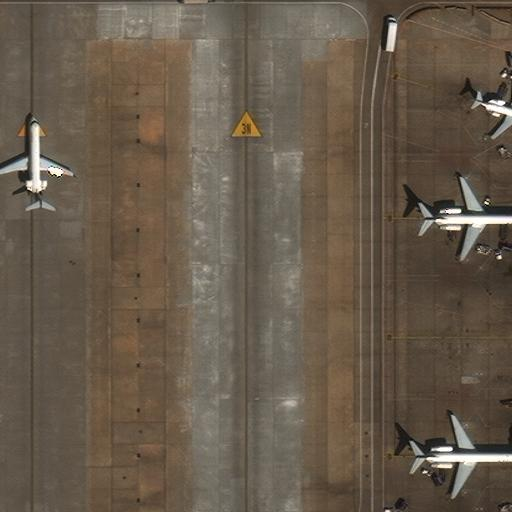Medium Civil Transport: (414, 415, 512, 498), (423, 178, 512, 259), (0, 114, 71, 211), (474, 84, 512, 139)
